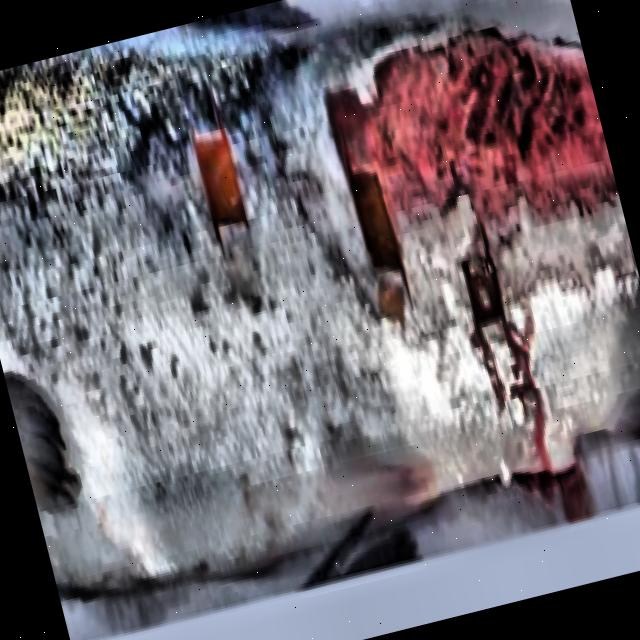mild_red: (0, 18, 506, 590)
wound: (319, 26, 620, 476), (189, 126, 251, 255)
